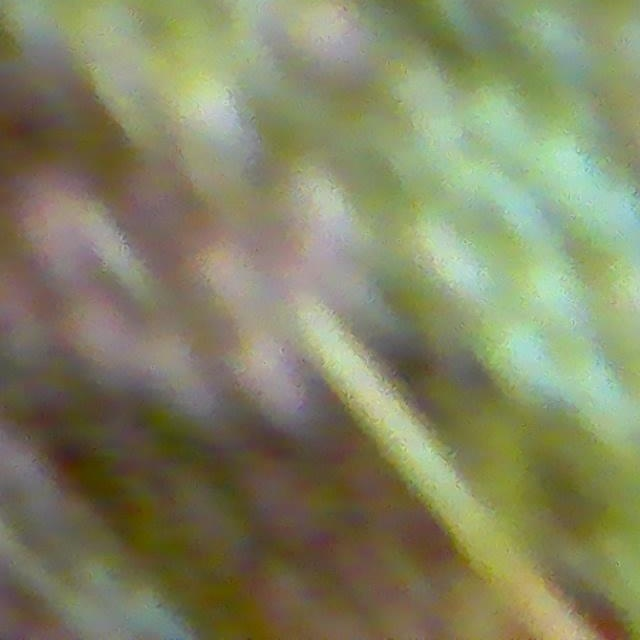SeaGrape: (503, 241, 597, 339), (451, 56, 540, 155), (504, 0, 602, 77), (412, 0, 485, 49)
